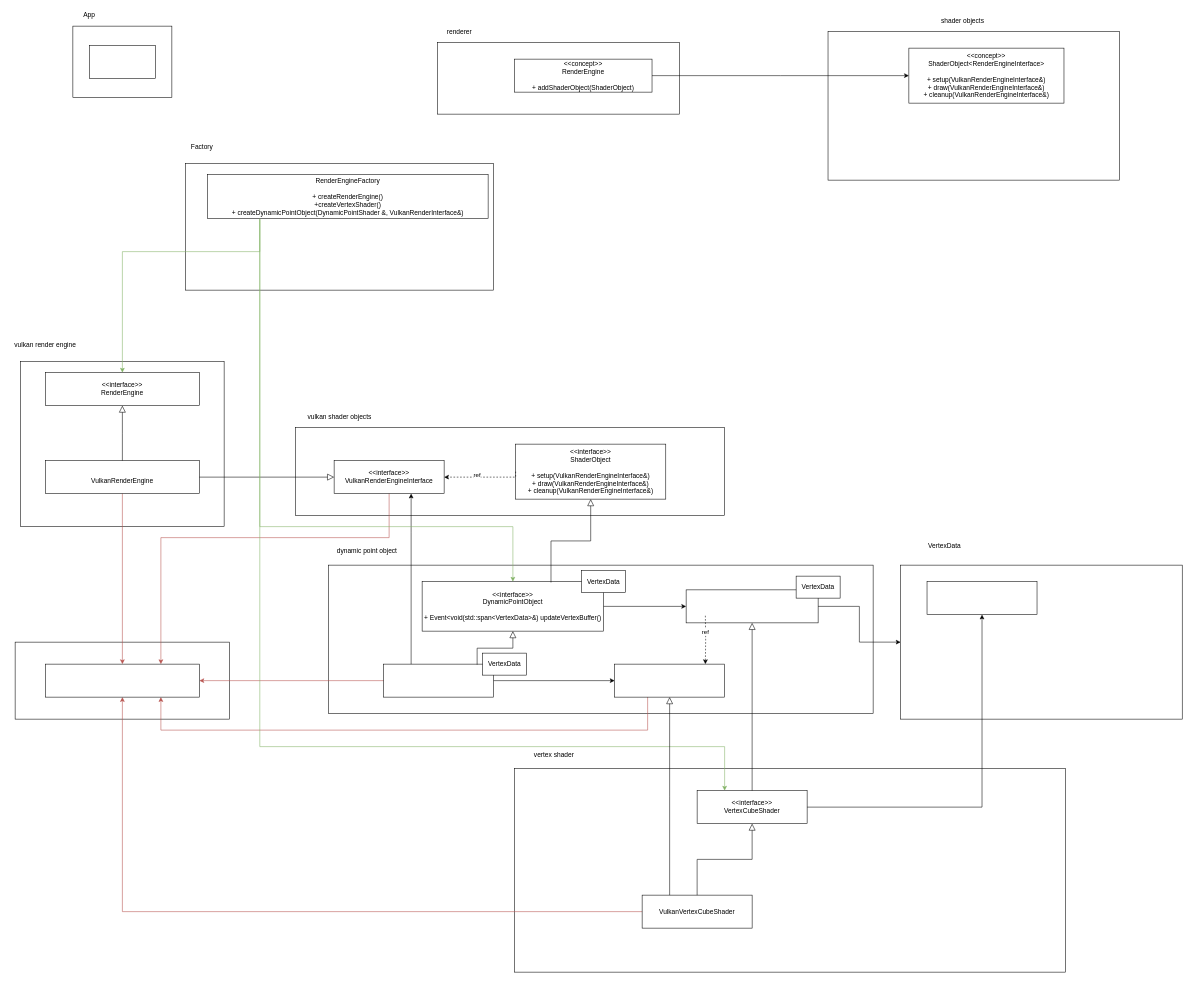
Image size: 1192x982. Some labels were removed from this diagram. Here are the shapes that lost their labels. From the top down, the centre of each, then its label:
At pixel 122 61: "main".
At pixel 752 606: "<<interface>> DynamicPointShader + get() -> VulkanDynamicPointShader&".
At pixel 981 598: "<<struct>> VertexShaderData".
At pixel 122 680: "vulkan".
At pixel 438 680: "VulkanDynamicPointObject".
At pixel 669 680: "<<interface>> VulkanDynamicPointShader".
